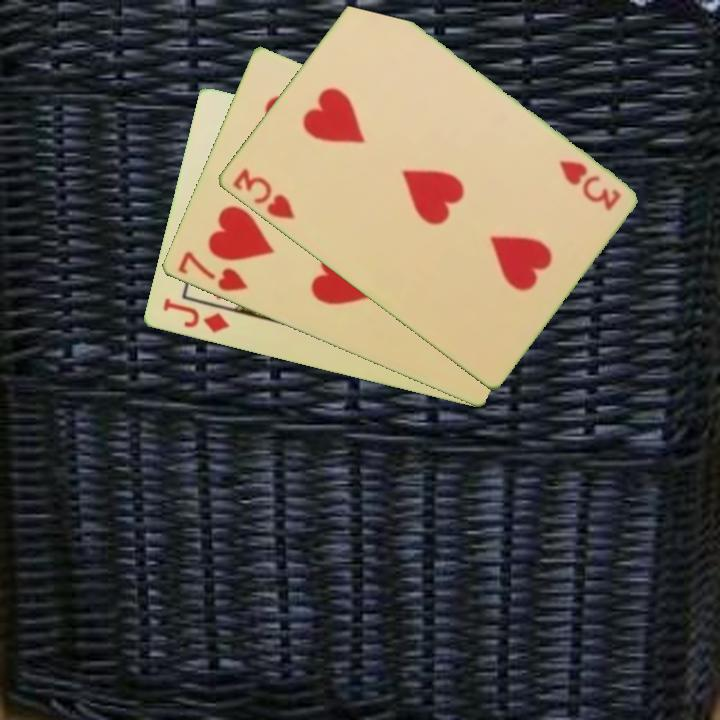3h: (228, 164, 298, 223), (554, 156, 623, 214)
7h: (174, 248, 250, 295)
Jd: (158, 294, 232, 336)
